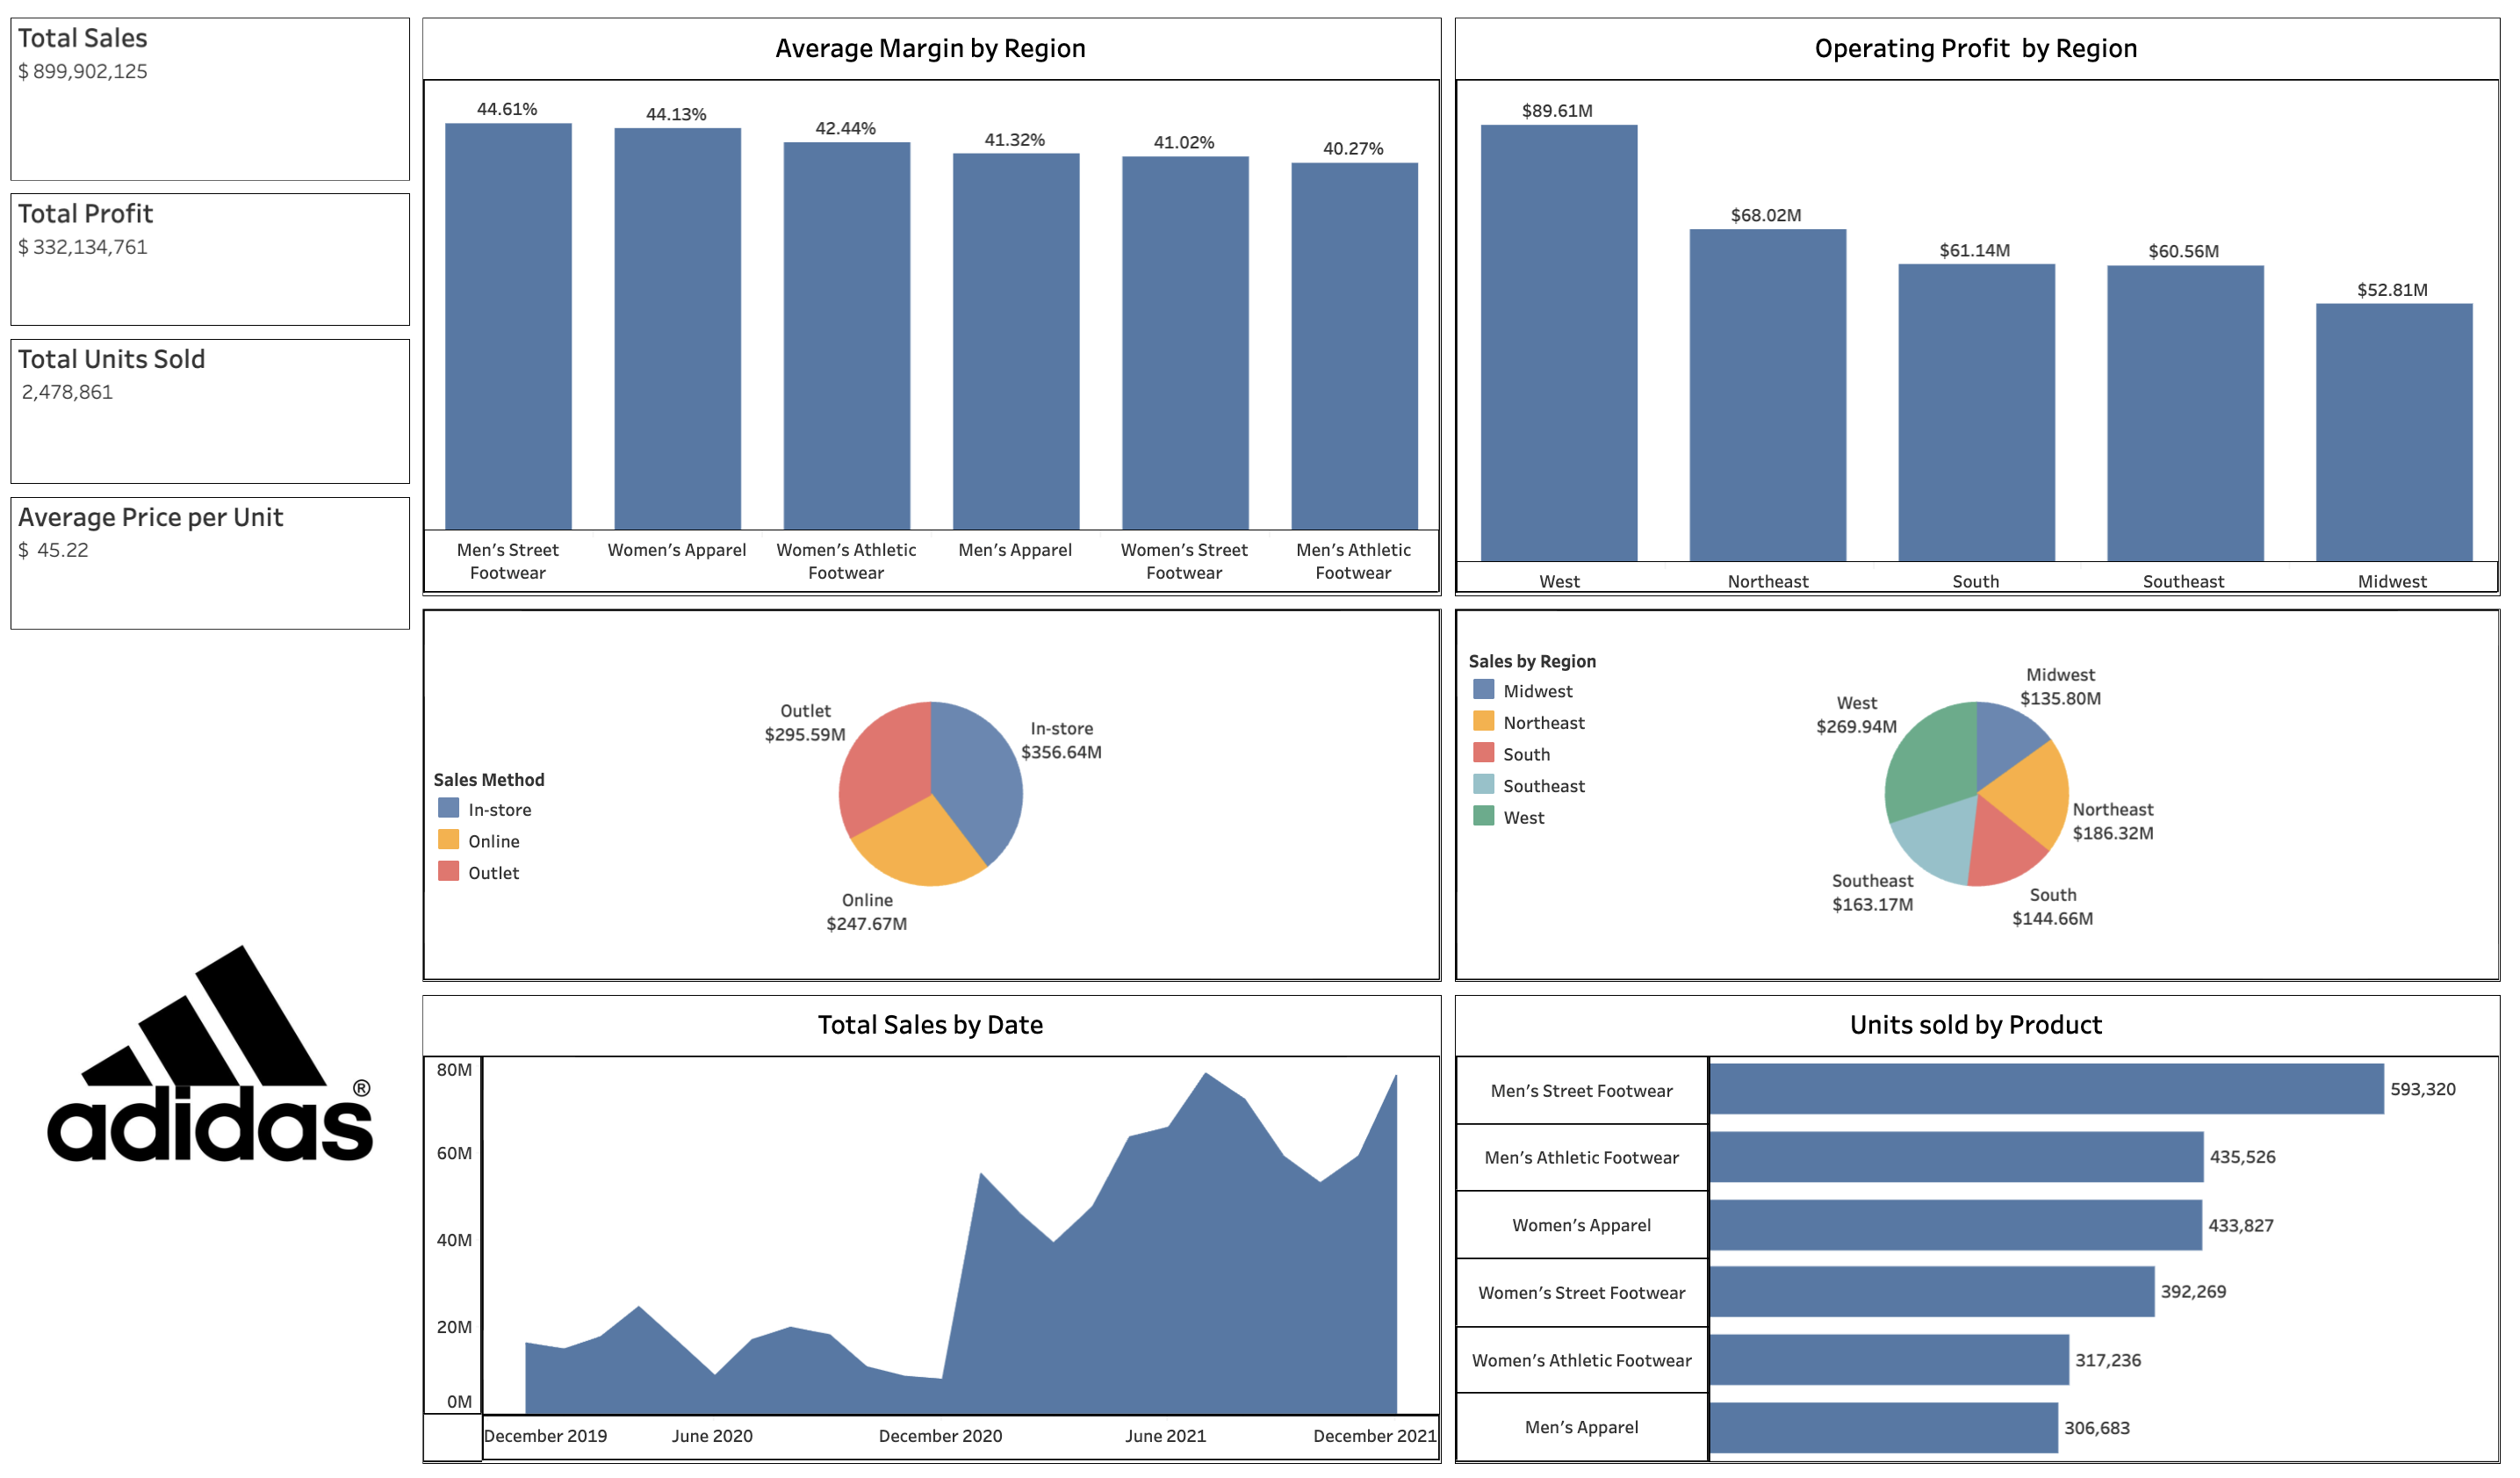

This screenshot's page, from the dashboard's own definition file:
{"tool":"tableau","page":{"name":"Dashboard 1","canvas":[1000,1000],"units":"permille","ordinal":0},"visuals":[{"type":"worksheet","title":"s2 (2)","mark":"Automatic","box":[5.6,11.6,162.8,117.3]},{"type":"worksheet","title":"Avg. operating margin by product","mark":"Automatic","rows":["Operating Margin"],"cols":["Product"],"box":[168.4,11.6,407.7,395.8]},{"type":"worksheet","title":"Avg. operating profit by product ","mark":"Automatic","rows":["Operating Profit"],"cols":["Region"],"box":[576.1,11.6,418.4,395.8]},{"type":"worksheet","title":"s2","mark":"Automatic","box":[5.6,128.9,162.8,98]},{"type":"worksheet","title":"s3","mark":"Automatic","box":[5.6,226.9,162.8,105]},{"type":"worksheet","title":"s4","mark":"Automatic","box":[5.6,331.9,162.8,98]},{"type":"worksheet","title":"Total Sales by Sales Method","mark":"Pie","box":[168.4,407.4,407.7,258.6]},{"type":"worksheet","title":"Total Sales by Region","mark":"Pie","box":[576.1,407.4,418.4,258.6]},{"type":"image","param":"Image/adidas-new-logo-on-transparent-background-free-vector.jpg","box":[5.6,429.9,162.8,558.5]},{"type":"legend","title":"Total Sales by Region","param":"[federated.14icedu19ao4a5122bthx19bfqci].[none:Region:nk]","box":[584.2,437.3,82.5,217.8]},{"type":"legend","title":"Total Sales by Sales Method","param":"[federated.14icedu19ao4a5122bthx19bfqci].[none:Sales Method:nk]","box":[175,517.4,78.3,134.2]},{"type":"worksheet","title":"Total Sales by Date ","mark":"Area","rows":["Total Sales"],"cols":["Invoice Date"],"box":[168.4,666,407.7,322.5]},{"type":"worksheet","title":"Units sold by Product","mark":"Automatic","rows":["Product"],"cols":["Units Sold"],"box":[576.1,666,418.4,322.5]}]}

Visuals, with their boxes on the dashboard's canvas, which has no fixed pixel size, in thousandths of its width and height (x1, y1, x2, y2). These are canvas units, not pixel positions in the 2520x1478 screenshot, which may show the page scaled, cropped or inside an application window:
"s2 (2)" worksheet: x1=6 y1=12 x2=168 y2=129
"Avg. operating margin by product" worksheet: x1=168 y1=12 x2=576 y2=407
"Avg. operating profit by product " worksheet: x1=576 y1=12 x2=994 y2=407
"s2" worksheet: x1=6 y1=129 x2=168 y2=227
"s3" worksheet: x1=6 y1=227 x2=168 y2=332
"s4" worksheet: x1=6 y1=332 x2=168 y2=430
"Total Sales by Sales Method" worksheet (Pie marks): x1=168 y1=407 x2=576 y2=666
"Total Sales by Region" worksheet (Pie marks): x1=576 y1=407 x2=994 y2=666
image: x1=6 y1=430 x2=168 y2=988
"Total Sales by Region" legend: x1=584 y1=437 x2=667 y2=655
"Total Sales by Sales Method" legend: x1=175 y1=517 x2=253 y2=652
"Total Sales by Date " worksheet (Area marks): x1=168 y1=666 x2=576 y2=988
"Units sold by Product" worksheet: x1=576 y1=666 x2=994 y2=988
